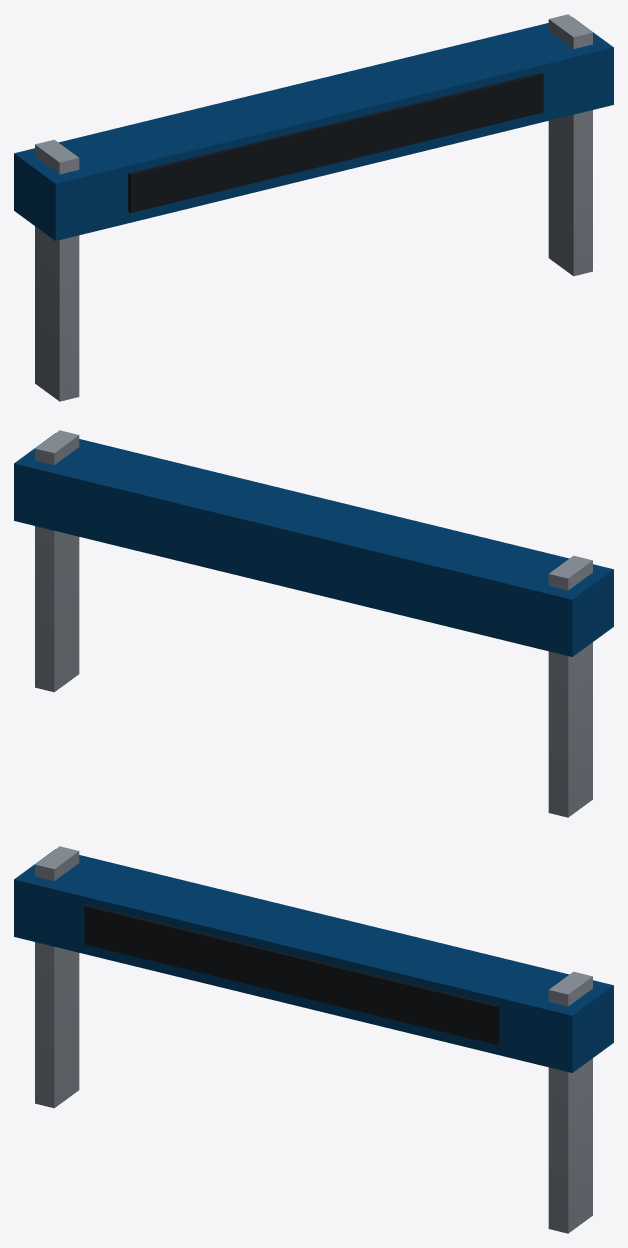
The model's file is start-finish-gantry.glb.
The picture shows the model from 3 angles, top to bottom: view 1: azimuth 30°, elevation 25°; view 2: azimuth 150°, elevation 25°; view 3: azimuth 330°, elevation 25°; orthographic projection.
Visible parts, largest first — view 1: start-finish-gantry; view 2: start-finish-gantry; view 3: start-finish-gantry.
Part boxes in pixels (left/top/right/bottom): start-finish-gantry: left=14, top=14, right=613, bottom=401; start-finish-gantry: left=14, top=430, right=613, bottom=817; start-finish-gantry: left=14, top=846, right=613, bottom=1233.
Size of the model in its own units: 22 by 9 by 3.
